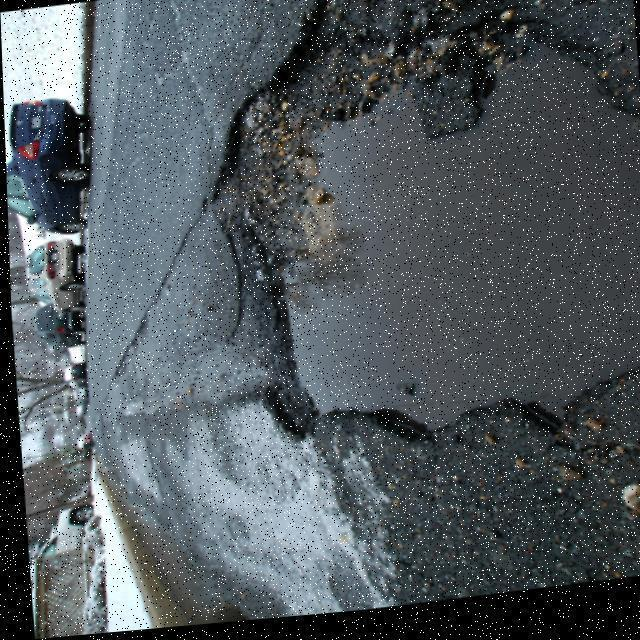Pothole: (205, 2, 640, 445)
